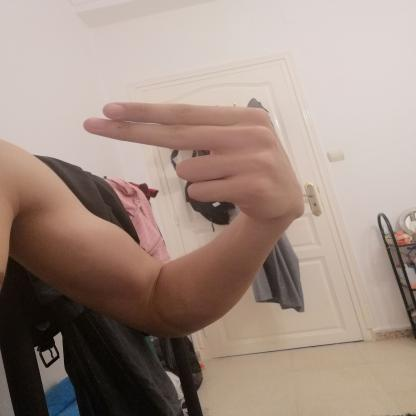AYN: (70, 92, 315, 228)
